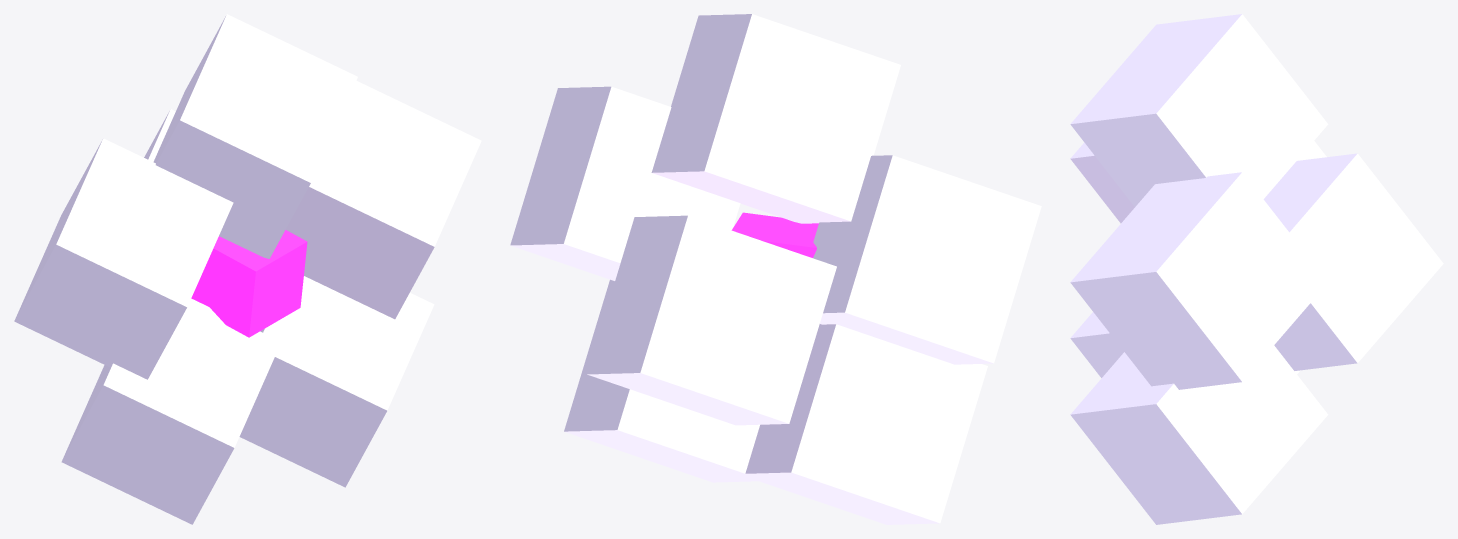
The model's file is fx_brood_web_tip.glb.
The picture shows the model from 3 angles, left to right: view 1: azimuth 30°, elevation 25°; view 2: azimuth 150°, elevation 25°; view 3: azimuth 270°, elevation 25°; orthographic projection. The views are drawn at different scales.
Visible parts, largest first — view 1: tip_shell, tip_core; view 2: tip_shell, tip_core; view 3: tip_shell.
Part boxes in pixels (box(x1,y1,x2,y2)): tip_shell: box(14, 14, 481, 524); tip_core: box(191, 230, 307, 337); tip_shell: box(510, 14, 1041, 524); tip_core: box(731, 212, 818, 257); tip_shell: box(1070, 14, 1443, 524).
Size of the model in its own units: 0.5235 by 0.5425 by 0.3885.
